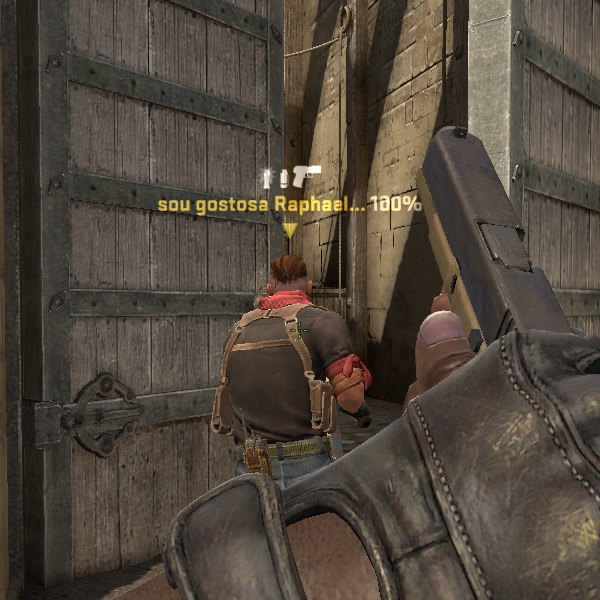t_head: (251, 241, 328, 330)
